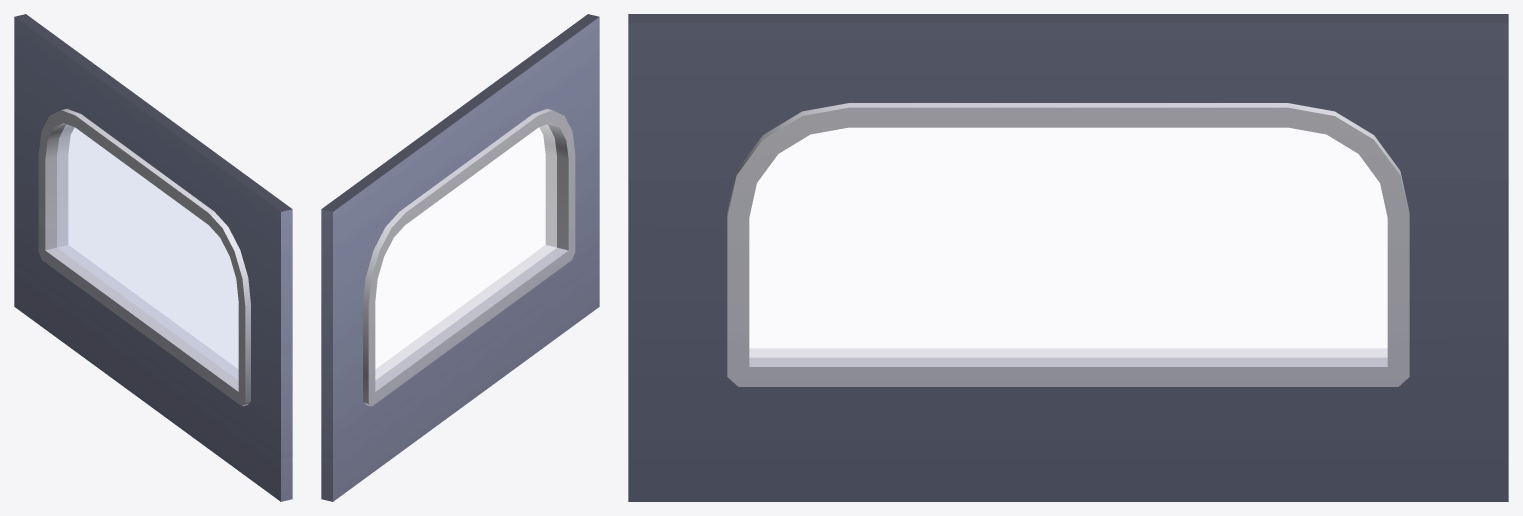
File: wall-window-wide-round.optimized.glb
The picture shows the model from 3 angles, left to right: view 1: azimuth 30°, elevation 25°; view 2: azimuth 150°, elevation 25°; view 3: azimuth 270°, elevation 25°; orthographic projection. The views are drawn at different scales.
Parts seen in each view (by area): view 1: wall-window-wide-round, (%ignore); view 2: wall-window-wide-round, (%ignore); view 3: wall-window-wide-round, (%ignore).
Boxes of the visible parts, x1,y1,x2,y2 form: wall-window-wide-round: (14, 14, 292, 501); (%ignore): (57, 124, 238, 380); wall-window-wide-round: (321, 14, 599, 501); (%ignore): (375, 124, 556, 380); wall-window-wide-round: (628, 14, 1508, 501); (%ignore): (749, 127, 1387, 357).
Size of the model in its own units: 0.2002 by 2.4 by 4.
Materials: 2 (1 with a texture image).
